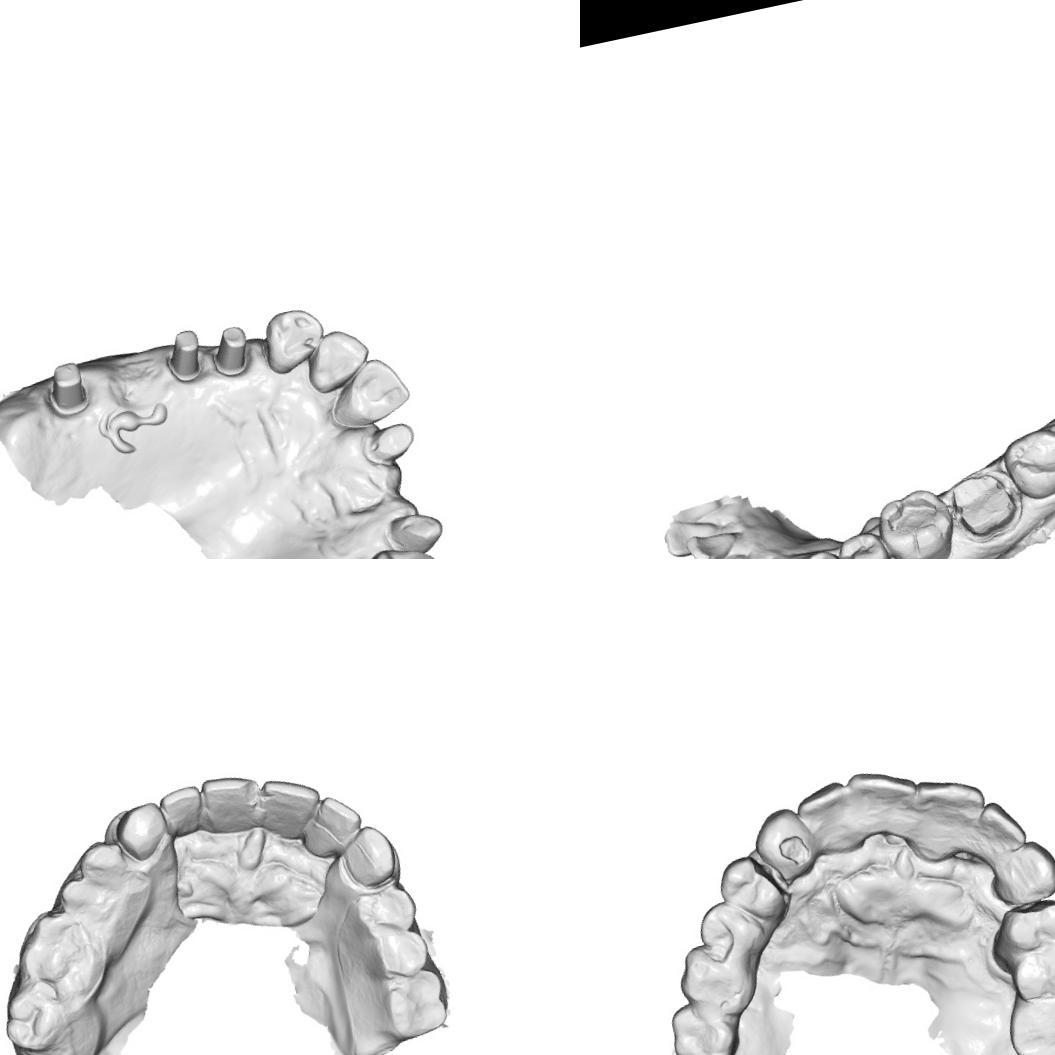abutment: (155, 322, 216, 388), (38, 354, 95, 422), (202, 316, 258, 382)
canine: (743, 802, 824, 889), (255, 302, 332, 380), (982, 834, 1055, 913), (110, 792, 175, 863), (336, 824, 396, 886)
crown: (942, 460, 1026, 546), (381, 501, 447, 559), (358, 415, 420, 473)
incisor: (901, 766, 997, 865), (319, 352, 414, 433), (842, 758, 926, 838), (790, 776, 866, 862), (297, 322, 378, 398), (254, 764, 325, 846), (961, 792, 1036, 864), (197, 767, 266, 841), (296, 787, 368, 856), (158, 780, 210, 840), (657, 511, 719, 559), (680, 524, 744, 559), (688, 548, 756, 559)
molar: (6, 904, 106, 1008), (671, 934, 764, 1028), (367, 961, 457, 1047), (870, 481, 962, 559), (0, 976, 74, 1055), (662, 993, 747, 1055), (999, 419, 1055, 509), (1001, 983, 1055, 1055)
premolar: (712, 848, 792, 931), (692, 893, 774, 970), (362, 916, 437, 986), (983, 892, 1055, 964), (353, 876, 426, 944), (72, 832, 136, 893), (1004, 936, 1055, 1009), (831, 524, 898, 559), (354, 538, 446, 559), (790, 542, 856, 559)
